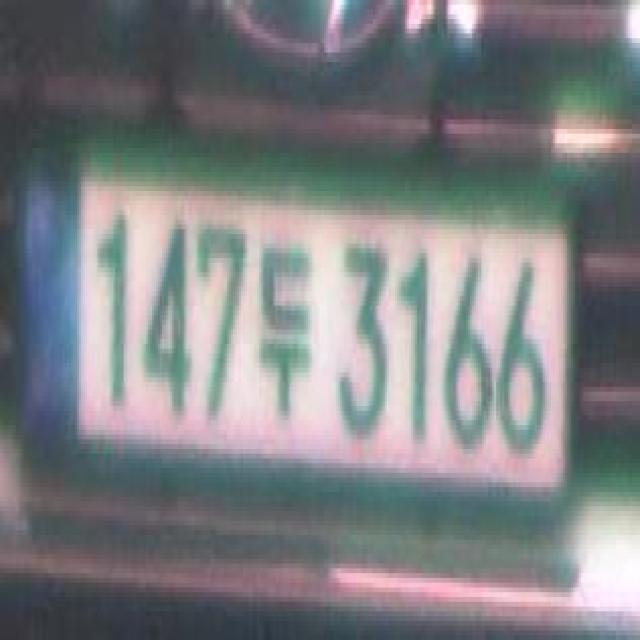illegal_plate: (12, 114, 584, 571)
